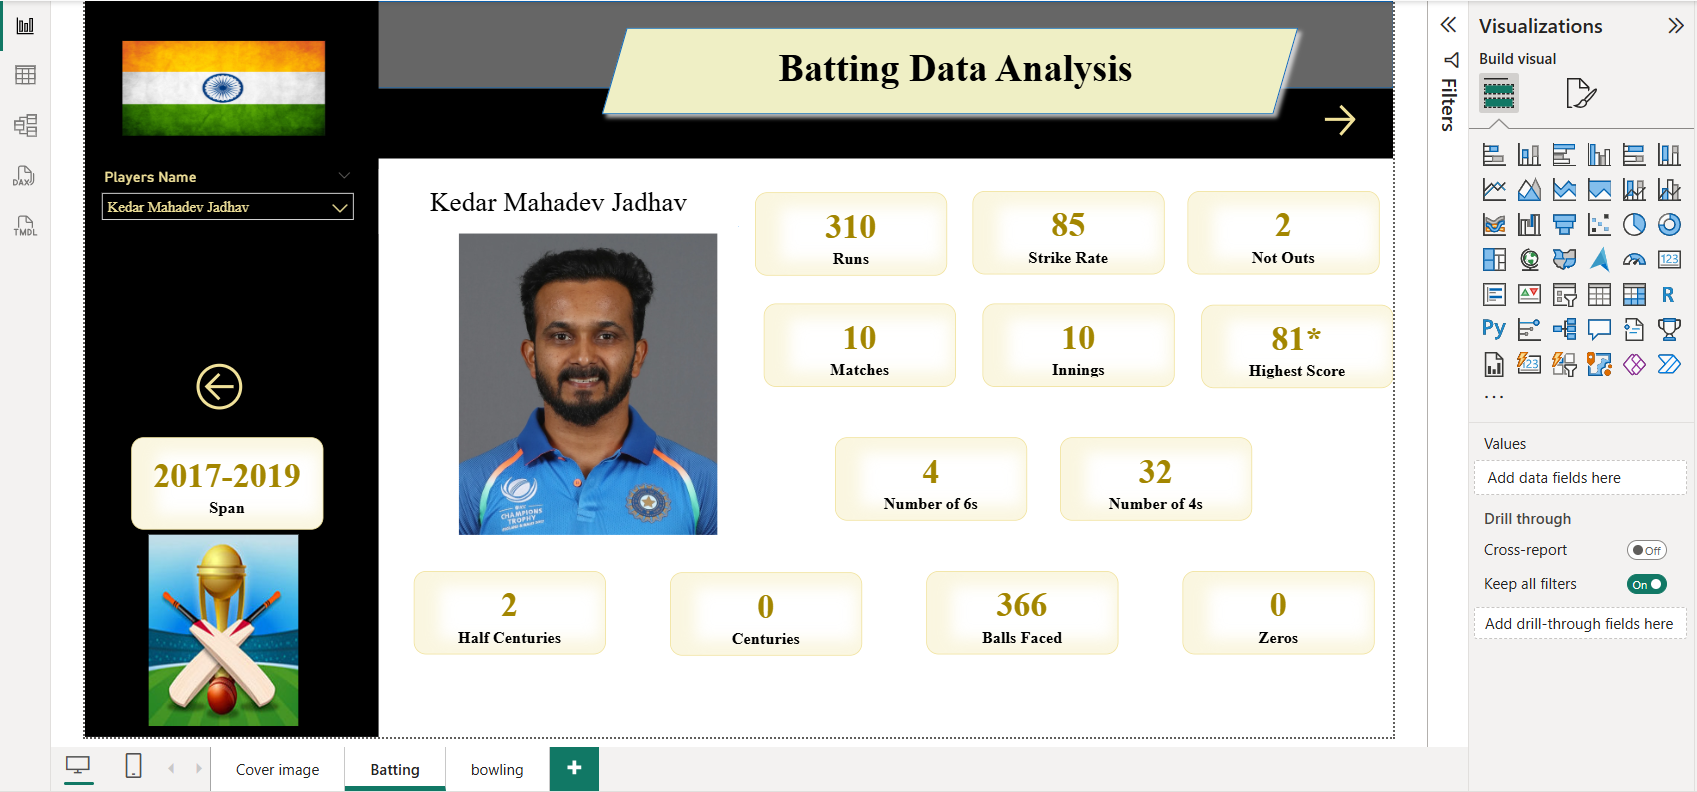

The page's visual inventory and layout, read from the dashboard file:
{"tool":"powerbi","page":{"name":"Batting ","canvas":[1280,720],"ordinal":1},"visuals":[{"type":"textbox","box":[0,145.5,287.4,574.7],"z":0},{"type":"tableEx","fields":{"Values":["battingimageurl.imageurlbatting"]},"box":[331.4,187.1,324.1,344.8],"z":1000},{"type":"card","fields":{"Values":["Min(Nametable_batting.Players Name)"]},"box":[287.4,165.1,352.2,62.4],"z":2000},{"type":"card","fields":{"Values":["Min(Cricket Data batting.Span)"]},"box":[45.2,426.8,188.3,90.5],"z":3000},{"type":"shape","box":[0,0,1280.3,85.6],"z":4000},{"type":"shape","box":[0,0,287.4,94.2],"z":5000},{"type":"shape","box":[0,85.6,1280.3,68.5],"z":6000},{"type":"shape","box":[496.5,17.1,699.5,102.7],"z":7000},{"type":"textbox","box":[576,39.1,551.5,57.5],"z":8000},{"type":"image","box":[31.8,34.2,207.9,102.7],"z":9000},{"type":"textbox","box":[697,509,188,211],"z":10000},{"type":"actionButton","box":[102.7,348.5,61.1,57.5],"z":11000},{"type":"actionButton","box":[1206.9,96.6,59.9,40.4],"z":12000},{"type":"card","fields":{"Values":["Sum(Cricket Data batting.NO)"]},"box":[1078.5,185.9,188.3,81.9],"z":13000},{"type":"card","fields":{"Values":["Sum(Cricket Data batting.Inns)"]},"box":[878,295.9,188.3,81.9],"z":14000},{"type":"card","fields":{"Values":["Min(Cricket Data batting.Runs)"]},"box":[655.4,187.1,188.3,81.9],"z":15000},{"type":"card","fields":{"Values":["Sum(Cricket Data batting.Mat)"]},"box":[664,295.9,188.3,81.9],"z":16000},{"type":"card","fields":{"Values":["Sum(Cricket Data batting.SR)"]},"box":[868.2,185.9,188.3,81.9],"z":17000},{"type":"image","box":[57.5,517.3,156.5,196.9],"z":18000},{"type":"card","fields":{"Values":["Min(Cricket Data batting.HS)"]},"box":[1091.7,297.1,188.3,81.9],"z":19000},{"type":"card","fields":{"Values":["Sum(Cricket Data batting.BF)"]},"box":[823,557.6,188.3,81.9],"z":20000},{"type":"card","fields":{"Values":["Sum(Cricket Data batting.4s)"]},"box":[953.8,426.8,188.3,81.9],"z":21000},{"type":"card","fields":{"Values":["Sum(Cricket Data batting.6s)"]},"box":[733.7,426.8,188.3,81.9],"z":22000},{"type":"card","fields":{"Values":["Sum(Cricket Data batting.50)"]},"box":[321.6,557.6,188.3,81.9],"z":23000},{"type":"card","fields":{"Values":["Sum(Cricket Data batting.100)"]},"box":[572.3,558.8,188.3,81.9],"z":24000},{"type":"card","fields":{"Values":["Sum(Cricket Data batting.0)"]},"box":[1073.6,557.6,188.3,81.9],"z":25000},{"type":"slicer","fields":{"Values":["Nametable_batting.Players Name"]},"box":[6.1,159,266.6,77],"z":26000}]}

Visuals, with their boxes on the page's 1280x720 design canvas (x1, y1, x2, y2). These are canvas units, not pixel positions in the 1697x792 screenshot, which may show the page scaled, cropped or inside an application window:
textbox: 0:146:287:720
tableEx - battingimageurl.imageurlbatting: 331:187:656:532
card - Min(Nametable_batting.Players Name): 287:165:640:228
card - Min(Cricket Data batting.Span): 45:427:234:517
shape: 0:0:1280:86
shape: 0:0:287:94
shape: 0:86:1280:154
shape: 496:17:1196:120
textbox: 576:39:1128:97
image: 32:34:240:137
textbox: 697:509:885:720
actionButton: 103:348:164:406
actionButton: 1207:97:1267:137
card - Sum(Cricket Data batting.NO): 1078:186:1267:268
card - Sum(Cricket Data batting.Inns): 878:296:1066:378
card - Min(Cricket Data batting.Runs): 655:187:844:269
card - Sum(Cricket Data batting.Mat): 664:296:852:378
card - Sum(Cricket Data batting.SR): 868:186:1056:268
image: 58:517:214:714
card - Min(Cricket Data batting.HS): 1092:297:1280:379
card - Sum(Cricket Data batting.BF): 823:558:1011:640
card - Sum(Cricket Data batting.4s): 954:427:1142:509
card - Sum(Cricket Data batting.6s): 734:427:922:509
card - Sum(Cricket Data batting.50): 322:558:510:640
card - Sum(Cricket Data batting.100): 572:559:761:641
card - Sum(Cricket Data batting.0): 1074:558:1262:640
slicer - Nametable_batting.Players Name: 6:159:273:236
